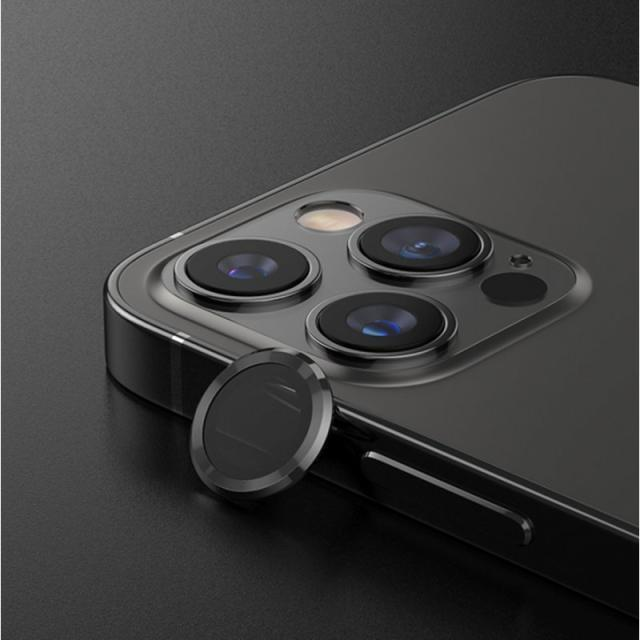hidden camera: (136, 189, 610, 493)
